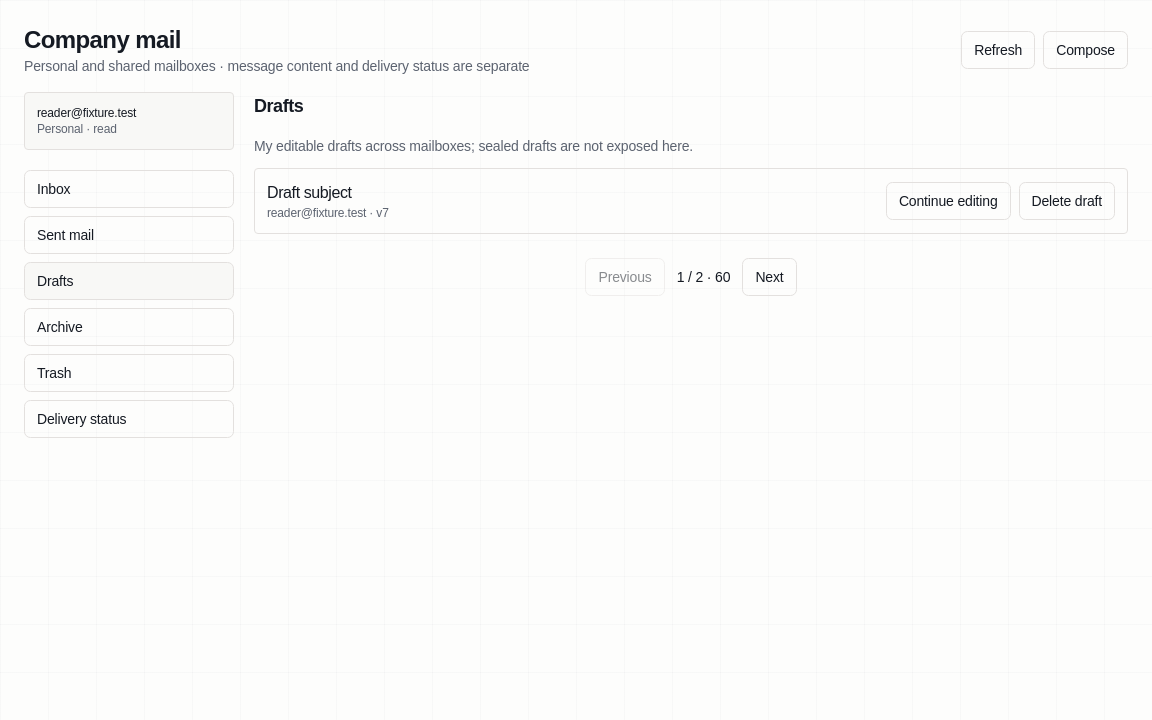
Test: mail mutation completion ownership › the current draft action preserves its original command and refreshes its list
Expected: the heading "Draft subject" is shown, x1=267 y1=184 x2=352 y2=201
Click the button "Delete draft" at (1067, 201), box x1=1018 y1=182 x2=1115 y2=220
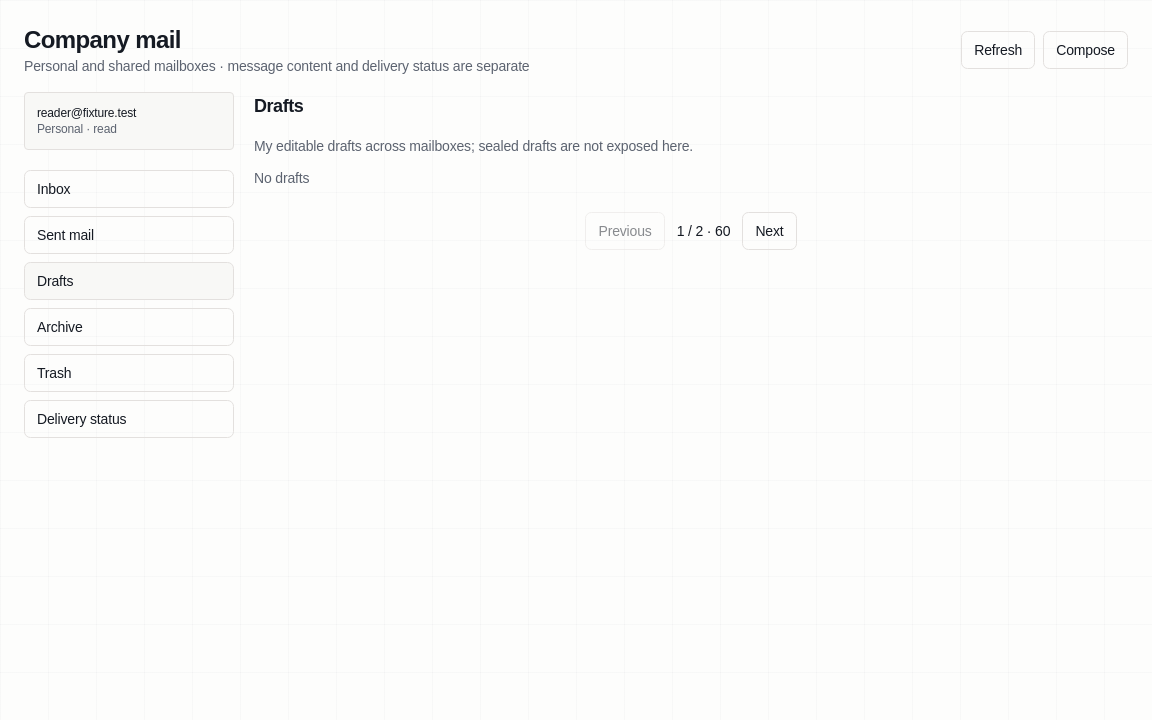
Now the heading "Draft subject" is gone
